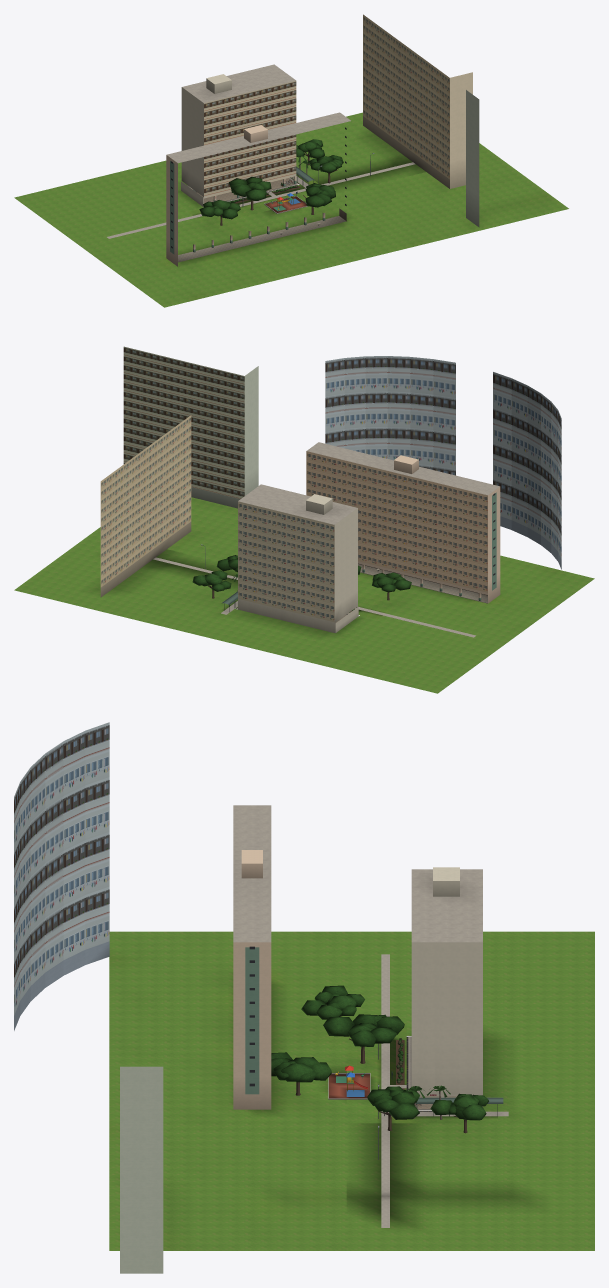
The model's file is voiddeck-mobile.glb.
The picture shows the model from 3 angles, top to bottom: view 1: azimuth 30°, elevation 25°; view 2: azimuth 150°, elevation 25°; view 3: azimuth 270°, elevation 25°; orthographic projection. The views are drawn at different scales.
Visible parts, largest first — view 1: VoidDeck; view 2: VoidDeck; view 3: VoidDeck.
Boxes of the visible parts, box(x1,y1,x2,y2) form: VoidDeck: box(14, 14, 568, 307); VoidDeck: box(14, 346, 594, 693); VoidDeck: box(14, 722, 594, 1273).
Size of the model in its own units: 150 by 47.96 by 108.
Materials: 13 (9 with a texture image).
